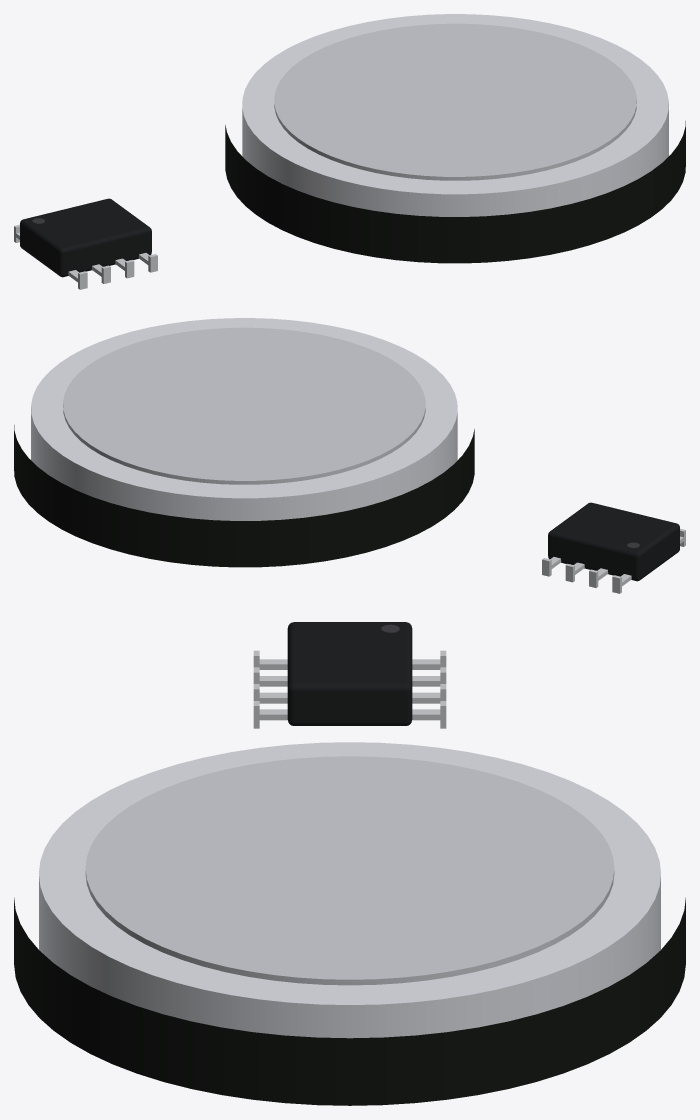
Rendered from bios.glb.
3 renders of one model, top to bottom at view 1: azimuth 30°, elevation 25°; view 2: azimuth 150°, elevation 25°; view 3: azimuth 270°, elevation 25°, orthographic. The views are drawn at different scales.
Visible parts, largest first — view 1: chip; view 2: chip; view 3: chip.
Boxes of the visible parts, box(x1,y1,x2,y2) form: chip: box(14, 14, 685, 289); chip: box(14, 318, 685, 593); chip: box(14, 622, 685, 1105).
Size of the model in its own units: 0.0333 by 0.0034 by 0.0216.
1 material, 1 textured.
